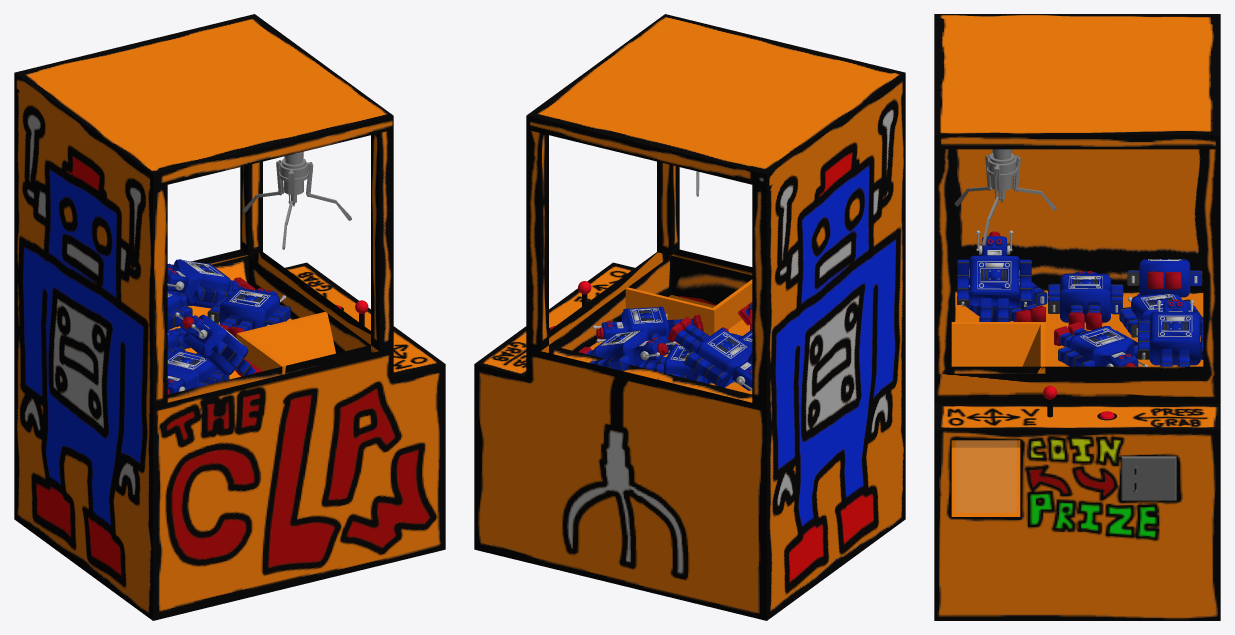
The model's file is clawmachine.glb.
3 renders of one model, left to right at view 1: azimuth 30°, elevation 25°; view 2: azimuth 150°, elevation 25°; view 3: azimuth 270°, elevation 25°, orthographic. The views are drawn at different scales.
Parts seen in each view (by area): view 1: Machine, Cube (×5), Claw; view 2: Machine, Cube (×4); view 3: Machine, Cube (×7), Claw.
Boxes of the visible parts, bbox=[...] form: Machine: bbox=[14, 14, 445, 620]; Cube (×5): bbox=[167, 259, 290, 394]; Claw: bbox=[276, 151, 313, 206]; Machine: bbox=[474, 14, 905, 620]; Cube (×4): bbox=[579, 306, 752, 390]; Machine: bbox=[934, 14, 1220, 620]; Cube (×7): bbox=[957, 230, 1203, 366]; Claw: bbox=[985, 149, 1020, 202].
Bounding box in the file's own units: 11.37 × 16.39 × 9.24.
Materials: 10 (1 with a texture image).
